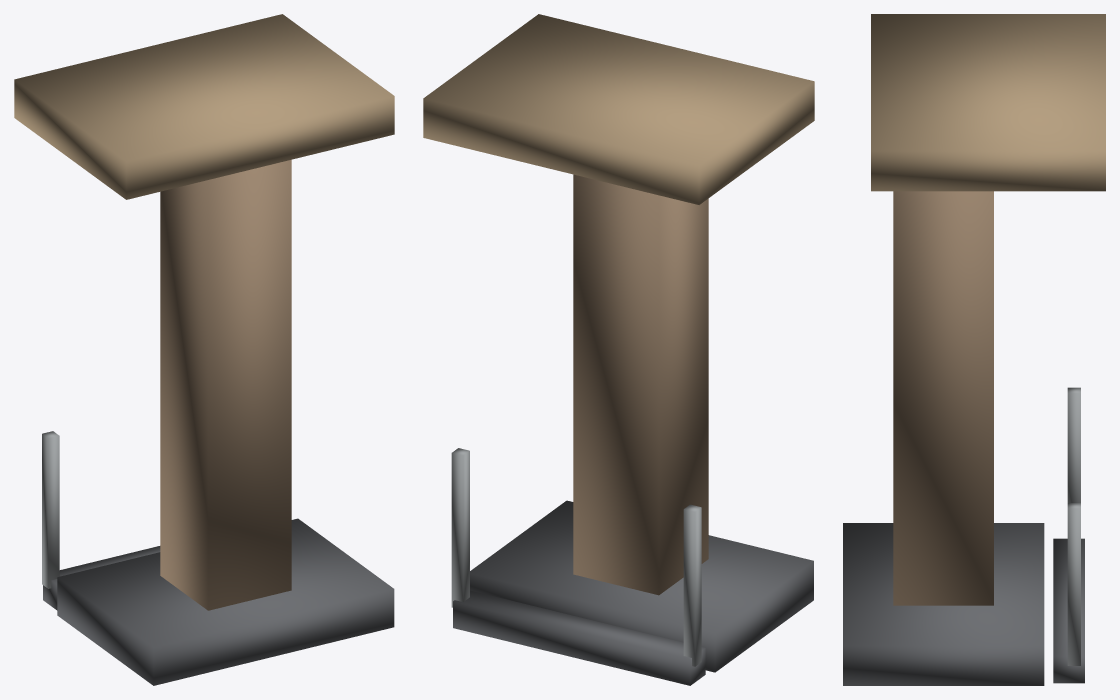
Rendered from lectern__reinforced.glb.
3 renders of one model, left to right at view 1: azimuth 30°, elevation 25°; view 2: azimuth 150°, elevation 25°; view 3: azimuth 270°, elevation 25°, orthographic. The views are drawn at different scales.
Parts seen in each view (by area): view 1: world; view 2: world; view 3: world.
Boxes of the visible parts, x1,y1,x2,y2 form: world: (14, 14, 394, 685); world: (423, 14, 814, 685); world: (843, 14, 1105, 685).
Size of the model in its own units: 0.5974 by 1.1 by 0.4841.
